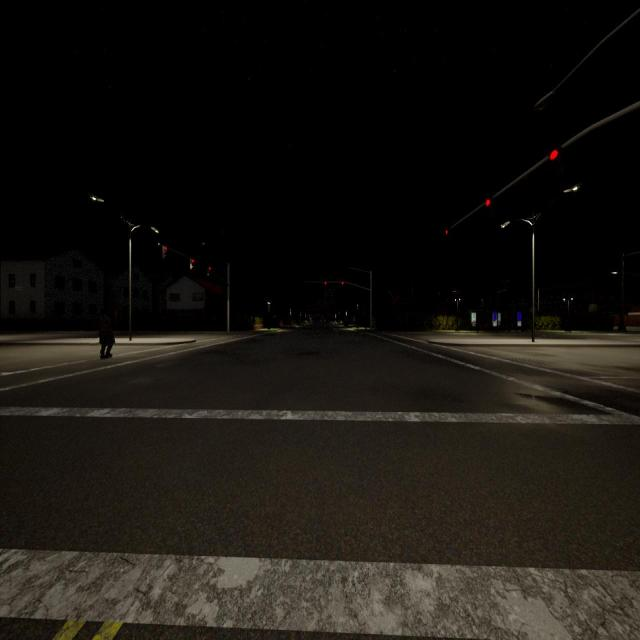Pedestrian: (98, 313, 114, 358)
traffic_light: (550, 150, 558, 160), (163, 246, 167, 258), (190, 259, 194, 269), (486, 200, 490, 206), (208, 267, 210, 275), (445, 230, 448, 235), (342, 281, 344, 285), (324, 282, 326, 284)
